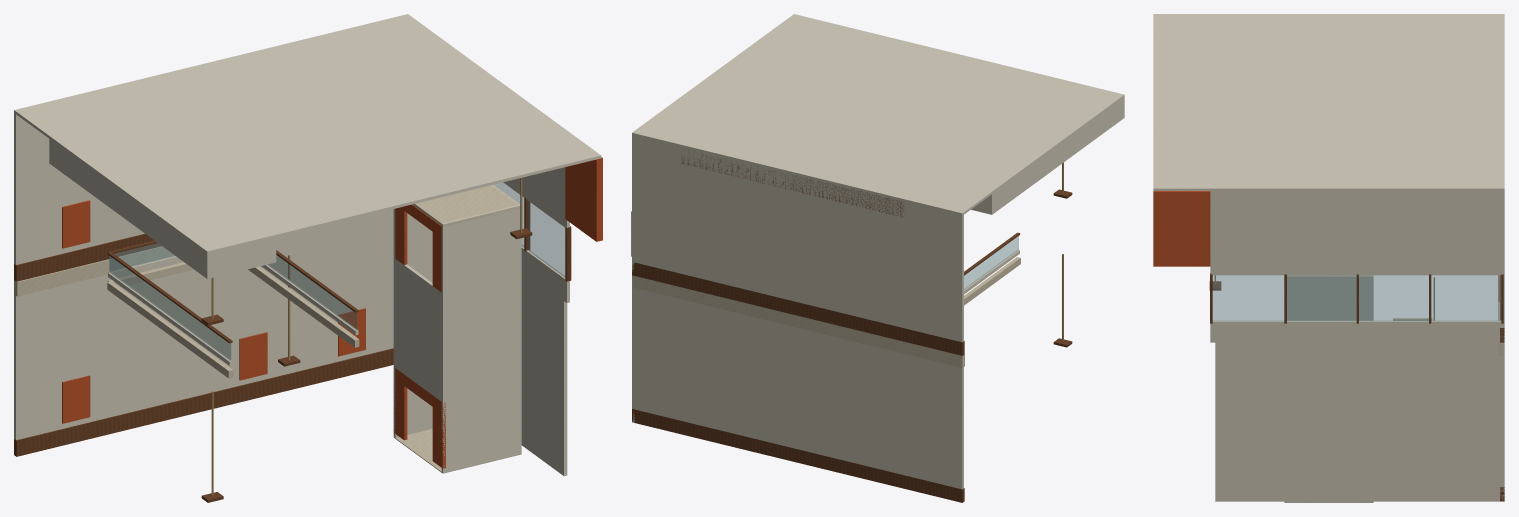
The model's file is AST-RTL-009.glb.
The picture shows the model from 3 angles, left to right: view 1: azimuth 30°, elevation 25°; view 2: azimuth 150°, elevation 25°; view 3: azimuth 270°, elevation 25°; orthographic projection. The views are drawn at different scales.
Visible parts, largest first — view 1: EX_HighRoof, EX_NorthWall_52.5, EX_LiftSide_-239.46, EX_EastLowerWall, EX_NorthWall_61, EX_NorthDado_52.5, EX_WestSoffit, EX_LiftFrontBetween, EX_LiftSide_-243.66, EX_UpperPortalHeader, EX_LiftCap, EX_UpperDiningGlass (+22 smaller); view 2: EX_HighRoof, EX_NorthWall_61, EX_NorthWall_52.5, EX_NorthDado_52.5, EX_NorthDado_61, EX_NorthJoint, EX_WestSoffit, EX_NorthSoffit, EX_GalleryGlass_1, EX_GalleryFascia_1; view 3: EX_HighRoof, EX_EastLowerWall, EX_EastUpperTransom, EX_UpperDiningGlass, EX_EastUpperDado, EX_UpperPortalHeader, EX_LiftBack, EX_NorthWall_52.5, EX_NorthWall_61.
Boxes of the visible parts, x1,y1,x2,y2 form: EX_HighRoof: (14, 14, 601, 254); EX_NorthWall_52.5: (14, 209, 393, 440); EX_LiftSide_-239.46: (441, 204, 521, 473); EX_EastLowerWall: (521, 270, 567, 476); EX_NorthWall_61: (14, 113, 144, 264); EX_NorthDado_52.5: (14, 348, 393, 456); EX_WestSoffit: (49, 139, 276, 278); EX_LiftFrontBetween: (393, 259, 445, 401); EX_LiftSide_-243.66: (393, 208, 432, 438); EX_UpperPortalHeader: (565, 157, 602, 241); EX_LiftCap: (412, 185, 520, 226); EX_UpperDiningGlass: (494, 182, 565, 277); EX_HighRoof: (632, 14, 1124, 215); EX_NorthWall_61: (632, 135, 963, 342); EX_NorthWall_52.5: (632, 288, 963, 489); EX_NorthDado_52.5: (632, 409, 964, 502); EX_NorthDado_61: (632, 262, 964, 355); EX_NorthJoint: (632, 275, 964, 367); EX_WestSoffit: (971, 97, 1124, 214); EX_NorthSoffit: (681, 149, 903, 217); EX_GalleryGlass_1: (964, 236, 1018, 289); EX_GalleryFascia_1: (964, 257, 1020, 305); EX_HighRoof: (1153, 14, 1504, 190); EX_EastLowerWall: (1215, 342, 1504, 501); EX_EastUpperTransom: (1210, 191, 1504, 275); EX_UpperDiningGlass: (1212, 275, 1501, 321); EX_EastUpperDado: (1210, 320, 1504, 342); EX_UpperPortalHeader: (1153, 191, 1210, 266); EX_LiftBack: (1284, 276, 1373, 502); EX_NorthWall_52.5: (1501, 356, 1504, 487); EX_NorthWall_61: (1501, 191, 1504, 327).
Size of the model in its own units: 20.08 by 16.98 by 17.
9 materials, 7 textured.
